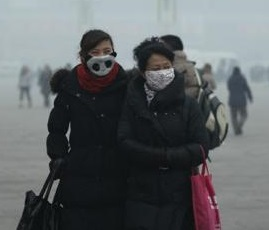person: (43, 28, 146, 230), (123, 34, 229, 230), (223, 63, 256, 136), (35, 63, 57, 109), (14, 64, 36, 109), (199, 60, 219, 90)
